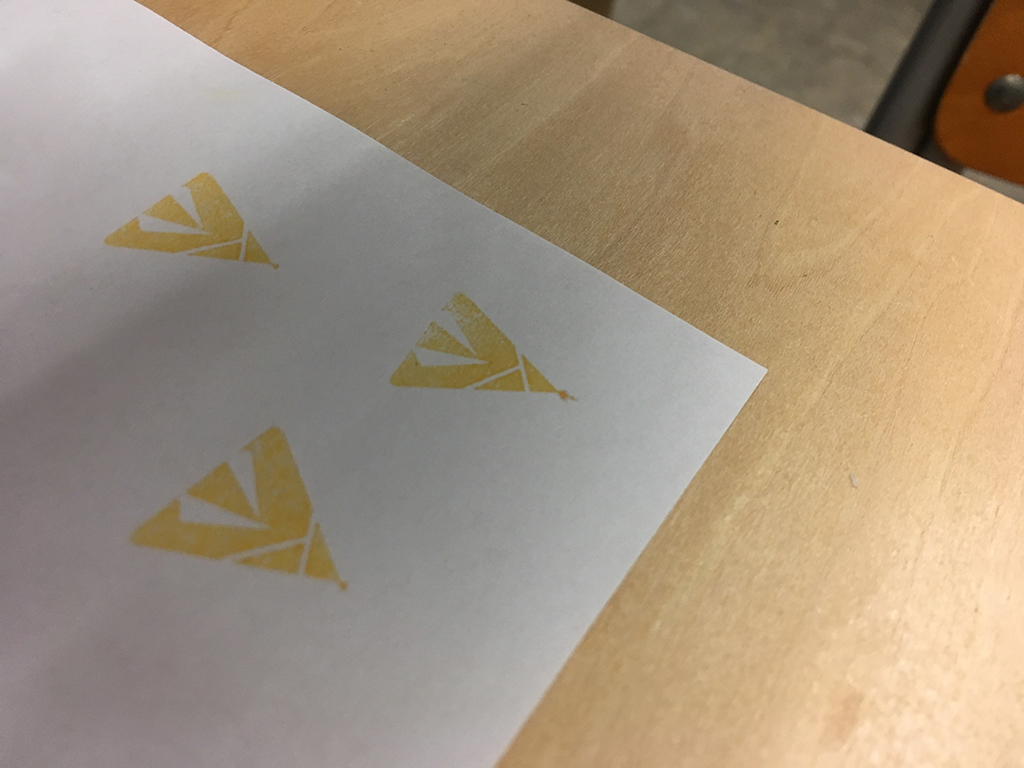tent: (108, 420, 361, 606), (382, 283, 585, 415), (90, 163, 289, 282)
